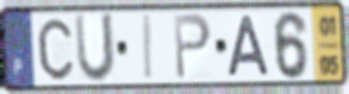6: (271, 8, 311, 81)
A: (226, 13, 273, 78)
C: (35, 16, 75, 82)
I: (142, 13, 155, 82)
P: (172, 12, 214, 82)
U: (73, 11, 117, 86)
